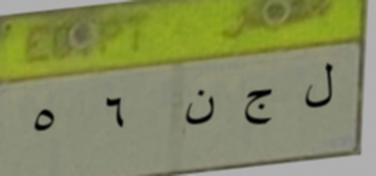5: (28, 104, 58, 134)
6: (104, 91, 126, 130)
jeem: (239, 84, 277, 131)
laam: (302, 56, 334, 116)
noon: (183, 88, 218, 130)
